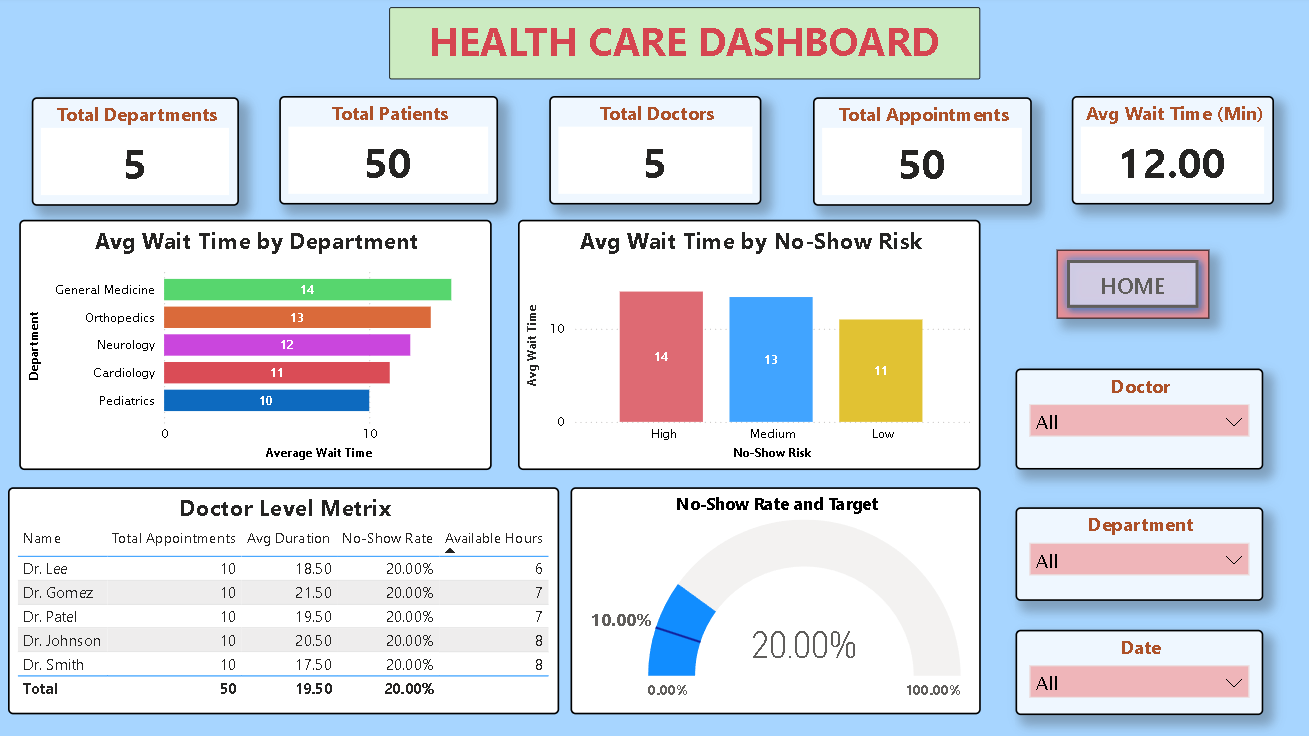

The dashboard page shown, as its layout file describes it:
{"tool":"powerbi","page":{"name":"Page 1","canvas":[1280,720],"ordinal":0},"visuals":[{"type":"textbox","box":[382.4,10.9,570.6,70],"z":0},{"type":"cardVisual","title":"Total Appointments","fields":{"Data":["Count(Appointments.AppointmentID)"]},"box":[791.4,97.7,211.1,105],"z":1000},{"type":"cardVisual","title":"Avg Wait Time (Min)","fields":{"Data":["Appointments.Avg Wait Time"]},"box":[1041.2,96.5,195.4,105],"z":2000},{"type":"cardVisual","title":"Total Doctors","fields":{"Data":["Count(Doctors.DoctorID)"]},"box":[536.9,96.5,205.1,105],"z":3000},{"type":"cardVisual","title":"Total Patients","fields":{"Data":["Count(Patients.PatientID)"]},"box":[276.3,96.5,211.1,105],"z":4000},{"type":"cardVisual","title":"Total Departments","fields":{"Data":["Count(Doctors.Department)"]},"box":[37.4,97.7,200.3,105],"z":5000},{"type":"clusteredBarChart","fields":{"Category":["Doctors.Department"],"Y":["Appointments.Avg Wait Time"]},"box":[25.3,216,456,241.3],"z":6000},{"type":"clusteredColumnChart","fields":{"Category":["Appointments.No-Show Risk"],"Y":["Appointments.Avg Wait Time"]},"box":[506.7,216,446.4,241.3],"z":7000},{"type":"tableEx","title":"Doctor Level Metrix","fields":{"Values":["Doctors.Name","Appointments.Total Appointments","Appointments.Avg Duration","Appointments.No-Show Rate","Doctors.AvailableHoursPerDay"]},"box":[14.5,474.1,532,219.6],"z":8000},{"type":"gauge","fields":{"Y":["Appointments.No-Show Rate"],"TargetValue":["Appointments.Target"]},"box":[557.4,474.1,395.7,219.6],"z":9000},{"type":"slicer","title":"Doctor","fields":{"Values":["Doctors.Name"]},"box":[986.9,359.5,238.9,97.7],"z":10000},{"type":"slicer","title":"Department","fields":{"Values":["Doctors.Department"]},"box":[986.9,493.4,238.9,90.5],"z":11000},{"type":"slicer","title":"Date","fields":{"Values":["Calender.Date"]},"box":[986.9,611.7,238.9,82],"z":12000},{"type":"actionButton","box":[1026.7,244.9,147.2,66.4],"z":13000}]}

Visuals, with their boxes in screenshot pixels (x1, y1, x2, y2), scaled from the page's 1280x720 canvas onto the 1309x736 screenshot:
textbox: select_region(391, 11, 975, 83)
"Total Appointments" cardVisual: select_region(809, 100, 1025, 207)
"Avg Wait Time (Min)" cardVisual: select_region(1065, 99, 1265, 206)
"Total Doctors" cardVisual: select_region(549, 99, 759, 206)
"Total Patients" cardVisual: select_region(283, 99, 498, 206)
"Total Departments" cardVisual: select_region(38, 100, 243, 207)
clusteredBarChart - Doctors.Department x Appointments.Avg Wait Time: select_region(26, 221, 492, 467)
clusteredColumnChart - Appointments.No-Show Risk x Appointments.Avg Wait Time: select_region(518, 221, 975, 467)
"Doctor Level Metrix" tableEx: select_region(15, 485, 559, 709)
gauge - Appointments.No-Show Rate x Appointments.Target: select_region(570, 485, 975, 709)
"Doctor" slicer: select_region(1009, 367, 1254, 467)
"Department" slicer: select_region(1009, 504, 1254, 597)
"Date" slicer: select_region(1009, 625, 1254, 709)
actionButton: select_region(1050, 250, 1200, 318)
